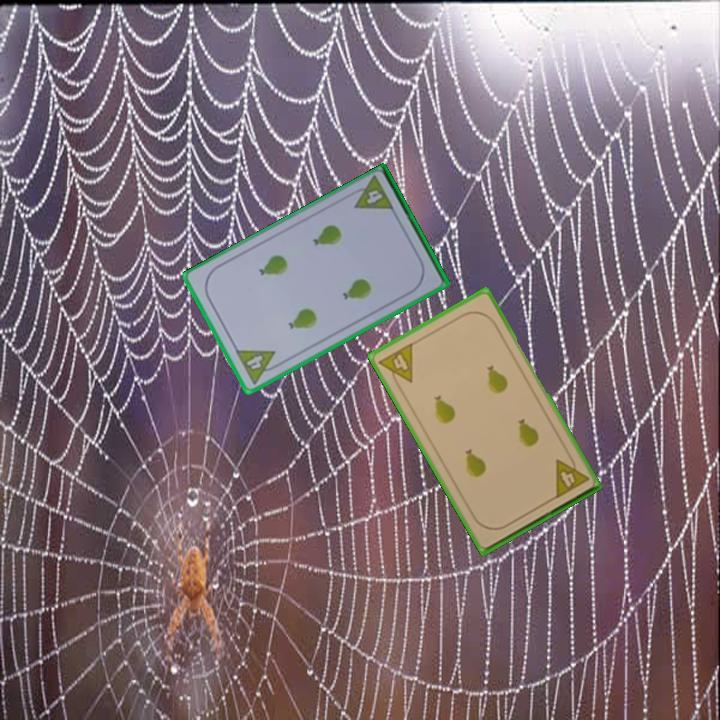4p: (375, 339, 416, 392), (232, 346, 284, 387), (345, 173, 397, 214), (551, 450, 592, 501)
